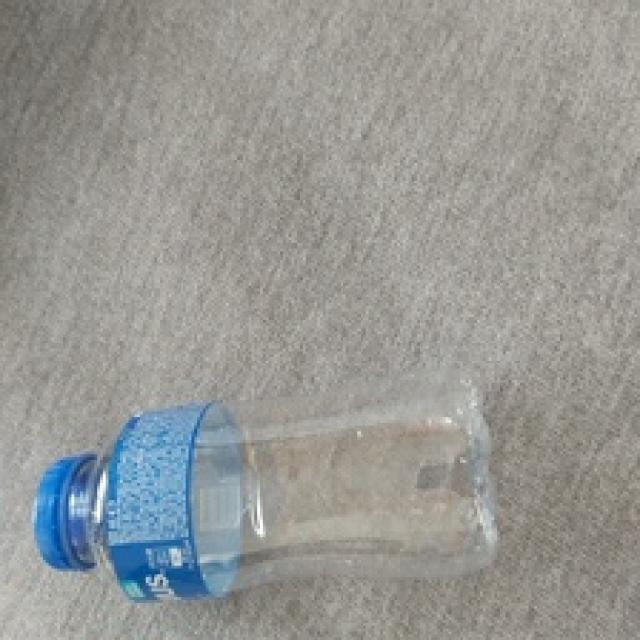Plastic: (29, 372, 496, 604)
